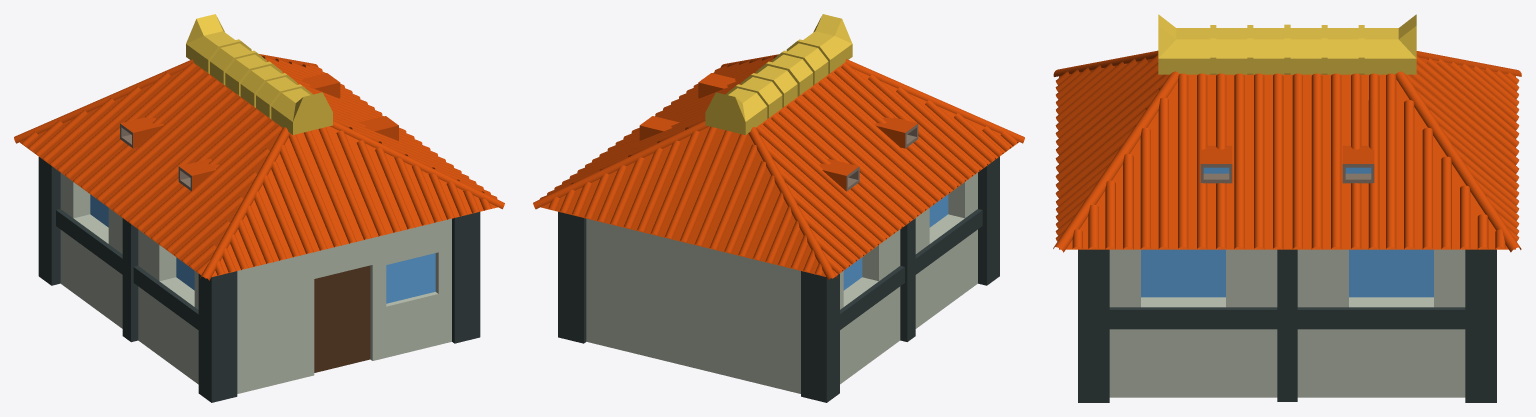
File: Casa1.glb
The picture shows the model from 3 angles, left to right: view 1: azimuth 30°, elevation 25°; view 2: azimuth 150°, elevation 25°; view 3: azimuth 270°, elevation 25°; orthographic projection. The views are drawn at different scales.
Parts seen in each view (by area): view 1: Base, Ventanas; view 2: Base, Ventanas; view 3: Base, Ventanas.
Part boxes in pixels (box(x1,y1,x2,y2)): Base: box(14, 14, 504, 402); Ventanas: box(90, 194, 435, 303); Base: box(533, 14, 1024, 402); Ventanas: box(843, 194, 948, 290); Base: box(1053, 14, 1521, 402); Ventanas: box(1141, 167, 1433, 297).
Size of the model in its own units: 5.98 by 4.72 by 6.6.
